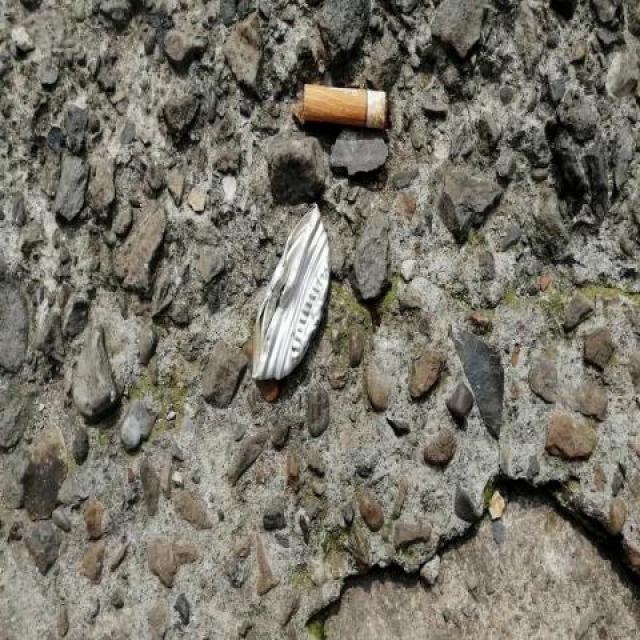non-organic waste: (299, 78, 394, 138)
